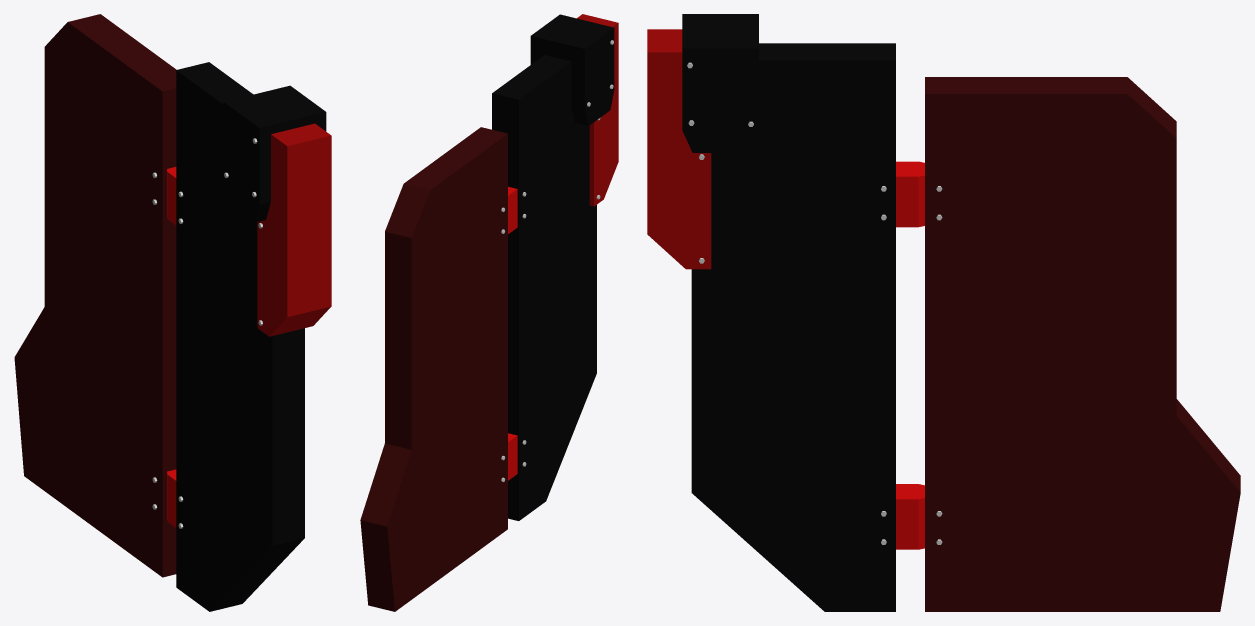
The model's file is rudder_two_piece.glb.
The picture shows the model from 3 angles, left to right: view 1: azimuth 30°, elevation 25°; view 2: azimuth 150°, elevation 25°; view 3: azimuth 270°, elevation 25°; orthographic projection. The views are drawn at different scales.
Parts seen in each view (by area): view 1: Cube.001, Cube, Cube.003, Cube.004, Cube.002; view 2: Cube.001, Cube, Cube.004, Cube.003, Cube.002; view 3: Cube.001, Cube, Cube.003, Cube.004, Cube.002.
Boxes of the visible parts, left/top/right/bottom form: Cube.001: left=14, top=14, right=176, bottom=577; Cube: left=176, top=62, right=304, bottom=611; Cube.003: left=257, top=123, right=331, bottom=336; Cube.004: left=223, top=85, right=326, bottom=222; Cube.002: left=167, top=167, right=176, bottom=527; Cube.001: left=360, top=127, right=507, bottom=611; Cube: left=492, top=55, right=596, bottom=520; Cube.004: left=530, top=14, right=614, bottom=125; Cube.003: left=577, top=14, right=618, bottom=206; Cube.002: left=508, top=186, right=517, bottom=480; Cube.001: left=925, top=77, right=1240, bottom=611; Cube: left=691, top=43, right=895, bottom=611; Cube.003: left=647, top=29, right=711, bottom=269; Cube.004: left=682, top=14, right=758, bottom=152; Cube.002: left=896, top=161, right=924, bottom=549.
Bounding box in the file's own units: 0.7534 × 5.46 × 5.13.
